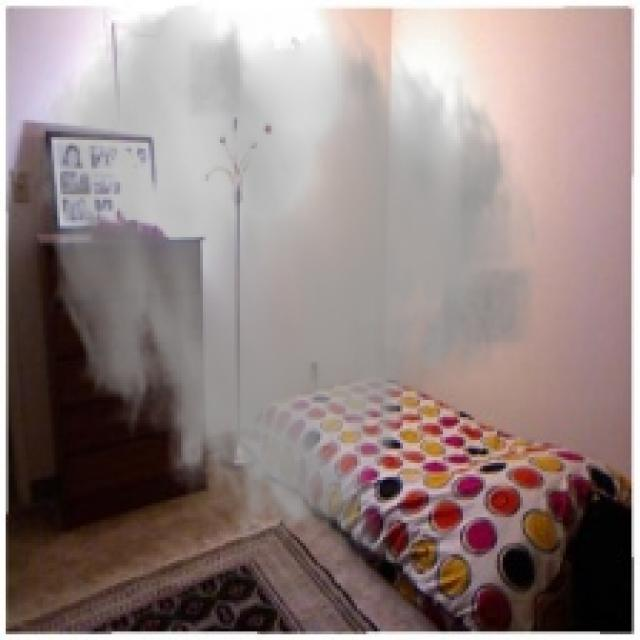smoke: (28, 0, 543, 563)
